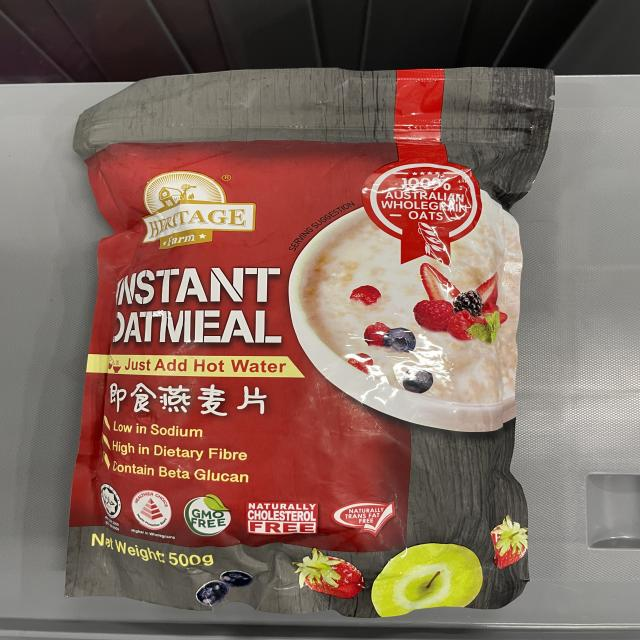object_name: (104, 80, 519, 601)
